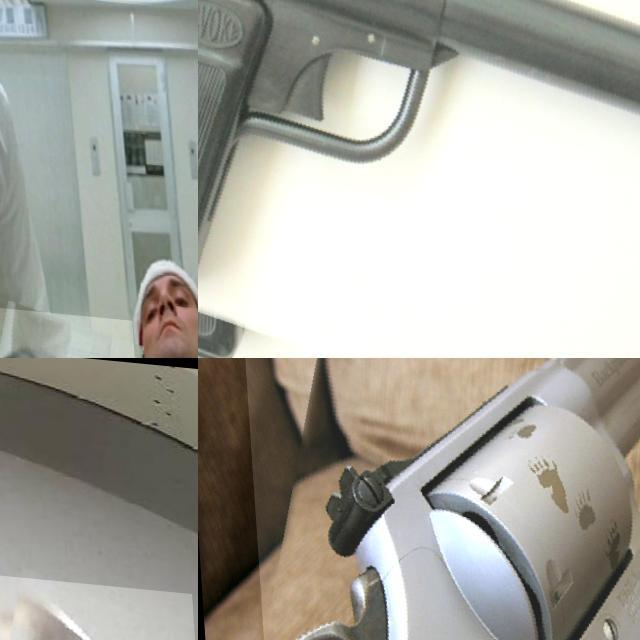-: (0, 570, 198, 640)
gun-knife-thesis - v11 Yolov5 augmented: (198, 0, 640, 358), (236, 358, 640, 640), (0, 302, 137, 358)
